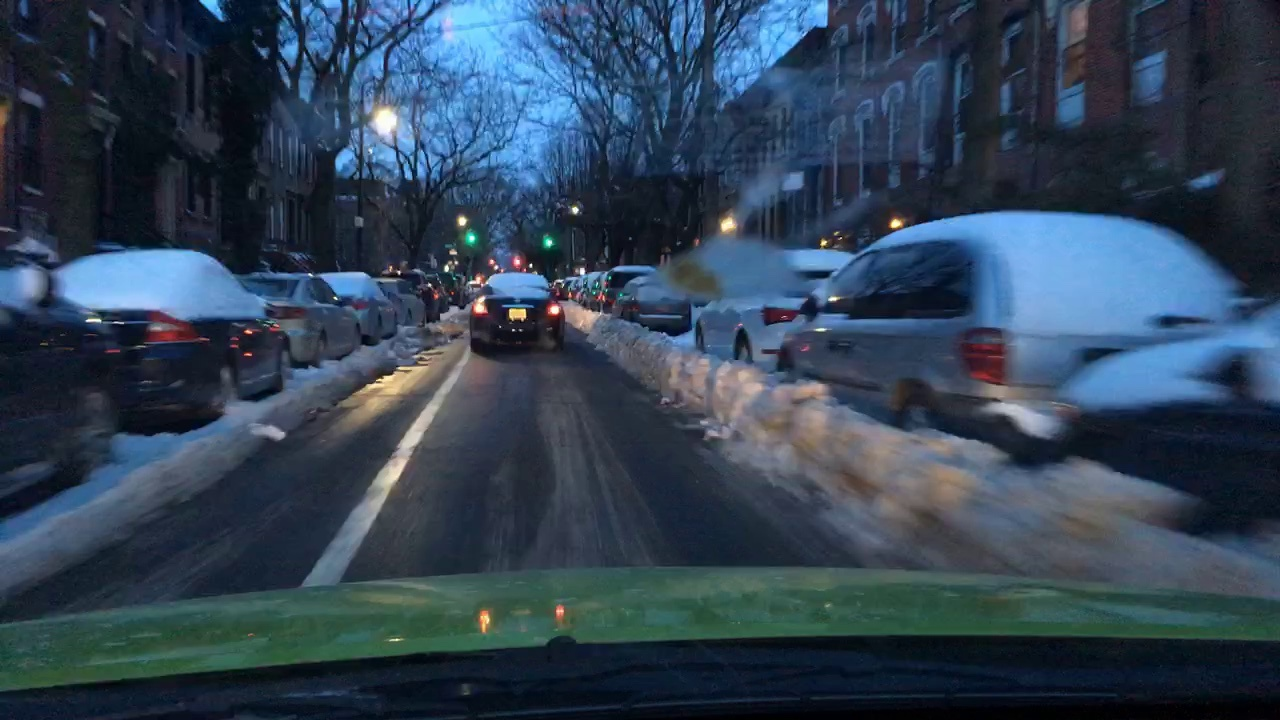car: (780, 233, 1206, 465), (53, 249, 292, 421), (694, 251, 836, 372), (242, 267, 362, 360), (471, 273, 567, 355), (320, 269, 398, 340), (615, 277, 691, 335)
